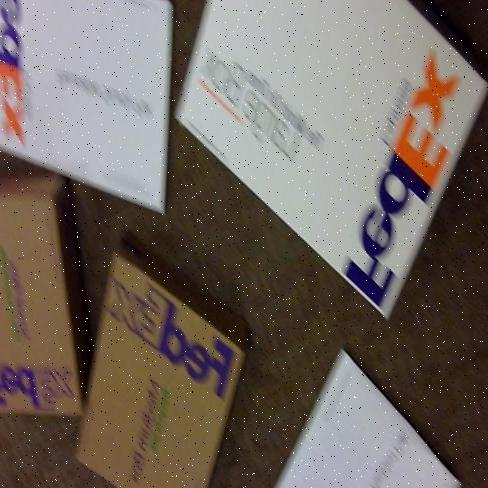Amazon: (184, 0, 483, 299), (99, 238, 249, 488), (0, 0, 180, 188), (0, 180, 79, 420)
